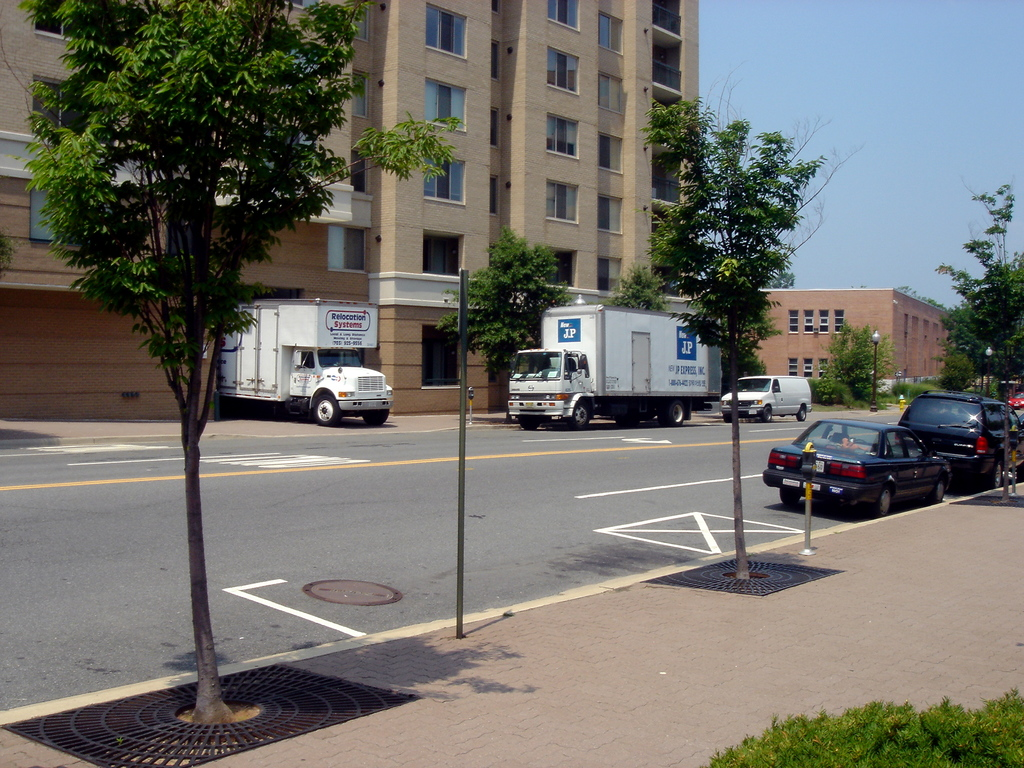Car: (771, 410, 970, 519), (896, 387, 1023, 490), (1007, 392, 1023, 405)
